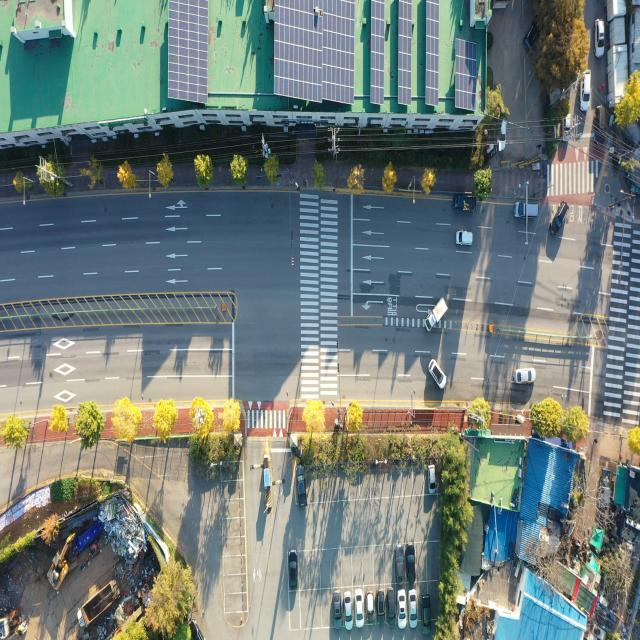car: (550, 202, 568, 234), (428, 359, 446, 389), (516, 202, 542, 221), (594, 16, 606, 56), (524, 20, 539, 51), (582, 71, 592, 113), (288, 550, 298, 590), (296, 462, 306, 502), (497, 117, 509, 150), (397, 590, 407, 626), (334, 589, 343, 628), (594, 104, 603, 142), (377, 590, 386, 624), (515, 368, 535, 383), (408, 545, 416, 582), (422, 596, 430, 632), (396, 546, 404, 581), (356, 589, 364, 624), (410, 592, 418, 626), (387, 590, 395, 624), (365, 590, 373, 623), (456, 232, 472, 247), (345, 592, 352, 626), (564, 115, 572, 144), (428, 466, 436, 494)
medium_truck: (78, 573, 123, 633)
small_truck: (424, 298, 448, 332), (454, 195, 478, 214)
